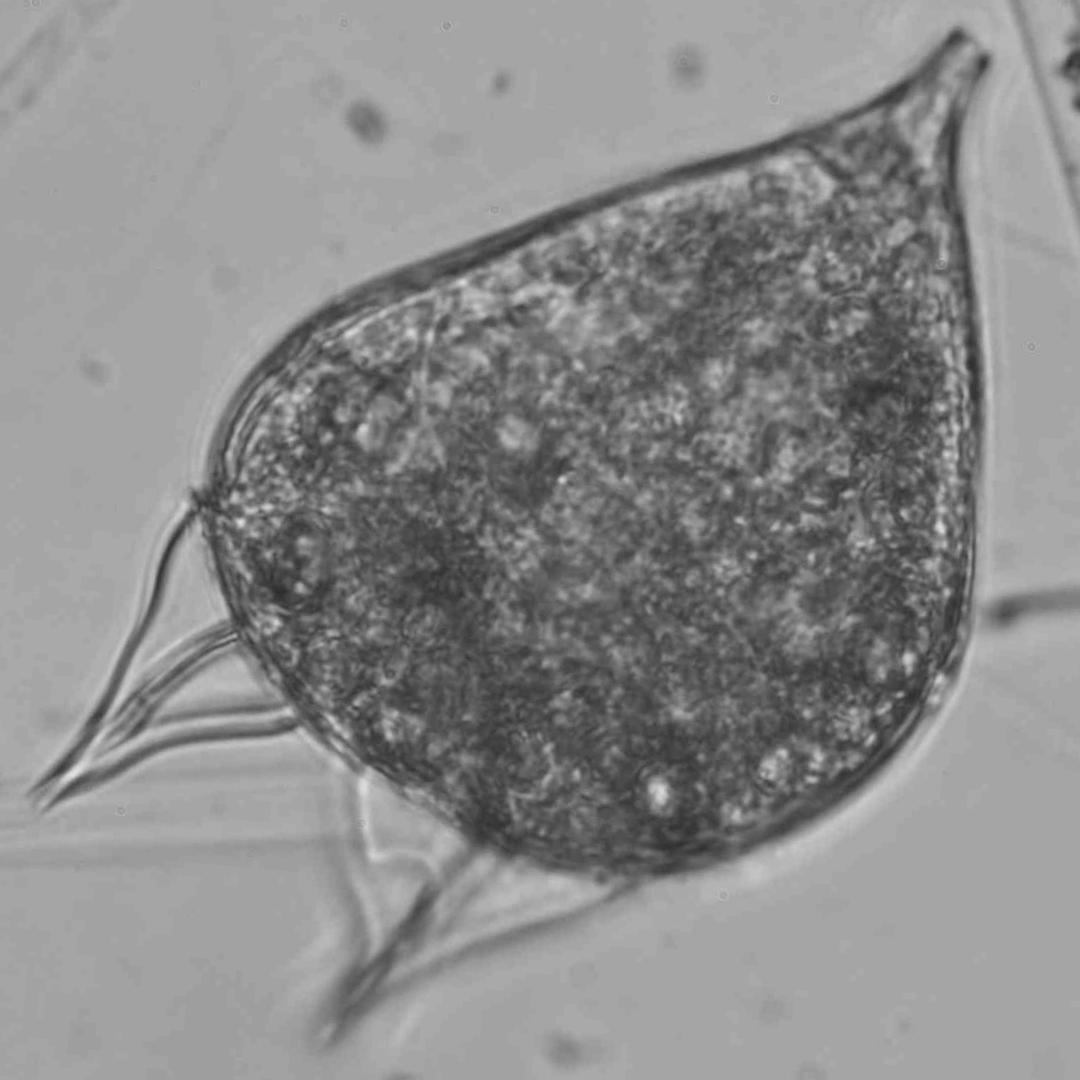podolampas_bipes: (27, 32, 990, 1049)
